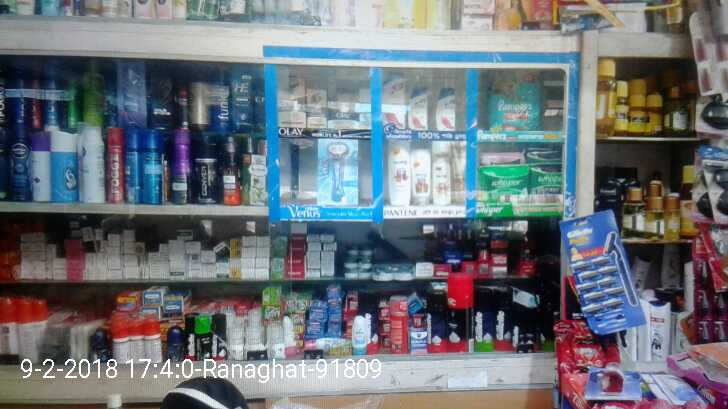gillete: (565, 217, 639, 331), (449, 274, 472, 354), (473, 289, 494, 353), (428, 292, 449, 354), (540, 282, 557, 349), (494, 289, 511, 349), (198, 313, 212, 360), (185, 313, 198, 362), (212, 315, 225, 360)
venus: (318, 137, 358, 204)
